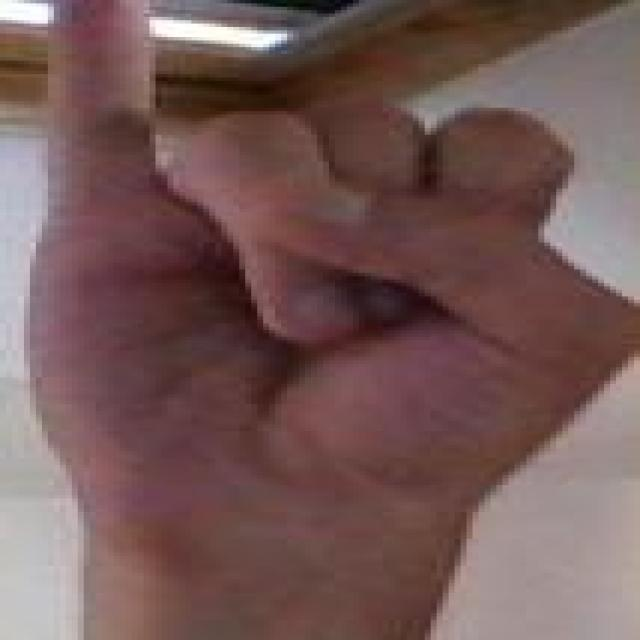I: (12, 5, 640, 545)
